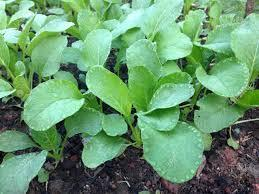Healthy-Pechay: (11, 3, 259, 157)
